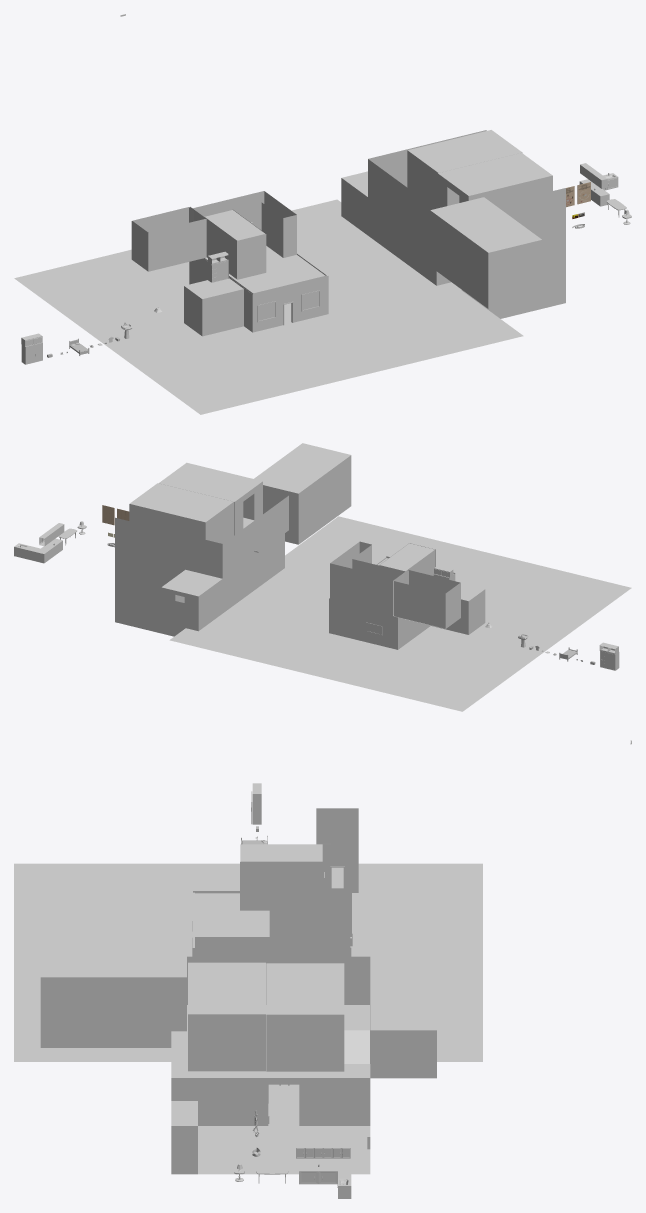
File: instructivo.fbx
The picture shows the model from 3 angles, top to bottom: view 1: azimuth 30°, elevation 25°; view 2: azimuth 150°, elevation 25°; view 3: azimuth 270°, elevation 25°; orthographic projection. The views are drawn at different scales.
Visible parts, largest first — view 1: Exterior, Cube.014, 2DOPISO, Cube.013, Cube, Cube.034, Cube.012, Pared_PP, Suleo_SP.001, Pared_Bano, Cube.025, Techo_PP (+5 smaller); view 2: Exterior, Cube, Cube.014, 2DOPISO, Cube.012, Cube.034, Cube.013, Pared_PP, Suleo_SP.001, Cube.008, Pared_Bano, Cube.042 (+3 smaller); view 3: Exterior, Cube.014, Cube, Cube.012, Cube.013, Cube.008, Suleo_SP.001, 2DOPISO, Pared_PP, Techo_PP, Cube.034, Cube.025 (+5 smaller).
Boxes of the visible parts, x1,y1,x2,y2 form: Exterior: (14, 199, 523, 414); Cube.014: (430, 197, 542, 308); 2DOPISO: (368, 130, 565, 242); Cube.013: (437, 153, 552, 208); Cube: (341, 171, 451, 285); Cube.034: (131, 207, 206, 271); Cube.012: (407, 130, 522, 208); Pared_PP: (189, 254, 328, 332); Suleo_SP.001: (193, 191, 296, 257); Pared_Bano: (184, 286, 243, 336); Cube.025: (204, 209, 266, 279); Techo_PP: (205, 246, 325, 293); Exterior: (169, 516, 631, 711); Cube: (115, 533, 284, 631); Cube.014: (254, 443, 351, 544); 2DOPISO: (115, 495, 288, 578); Cube.012: (129, 483, 233, 543); Cube.034: (393, 570, 460, 628); Cube.013: (159, 462, 262, 535); Pared_PP: (329, 556, 455, 649); Suleo_SP.001: (330, 541, 394, 613); Cube.008: (115, 587, 185, 636); Pared_Bano: (431, 589, 485, 634); Cube.042: (380, 543, 434, 571); Exterior: (14, 863, 482, 1061); Cube.014: (40, 944, 186, 1047); Cube: (198, 1005, 436, 1125); Cube.012: (266, 963, 344, 1071); Cube.013: (188, 962, 265, 1071); Cube.008: (171, 1078, 370, 1174); Suleo_SP.001: (269, 879, 351, 936); 2DOPISO: (171, 956, 370, 1077); Pared_PP: (193, 891, 350, 956); Techo_PP: (193, 892, 351, 938); Cube.034: (316, 808, 358, 892); Cube.025: (240, 861, 324, 910).
Bounding box in the file's own units: 6837 × 2273 × 4644.
